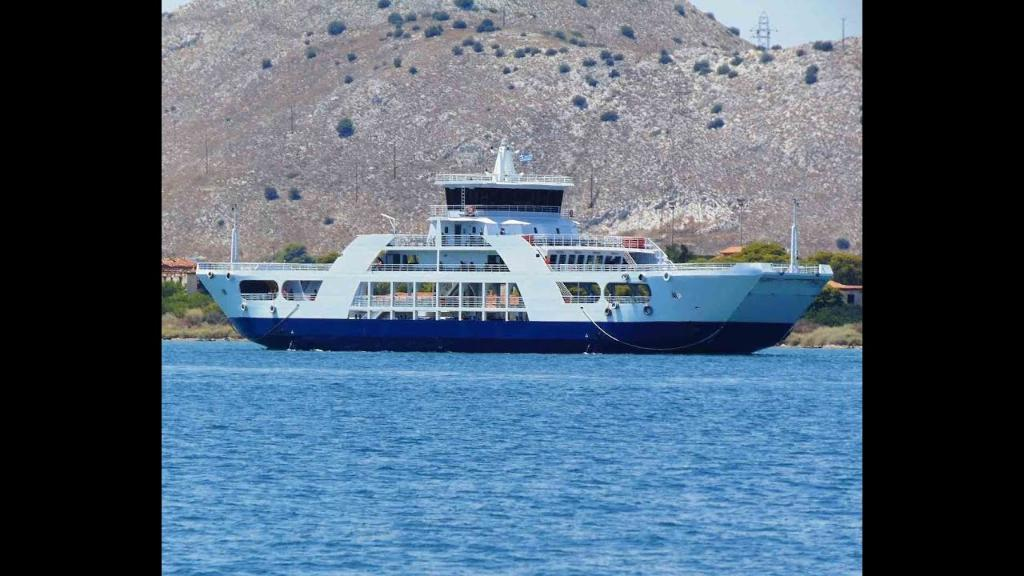PassengerShip: (192, 168, 832, 356)
